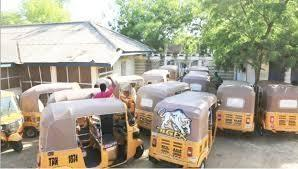keke: (37, 97, 145, 169), (148, 91, 217, 169), (217, 79, 255, 142), (260, 81, 298, 138)
